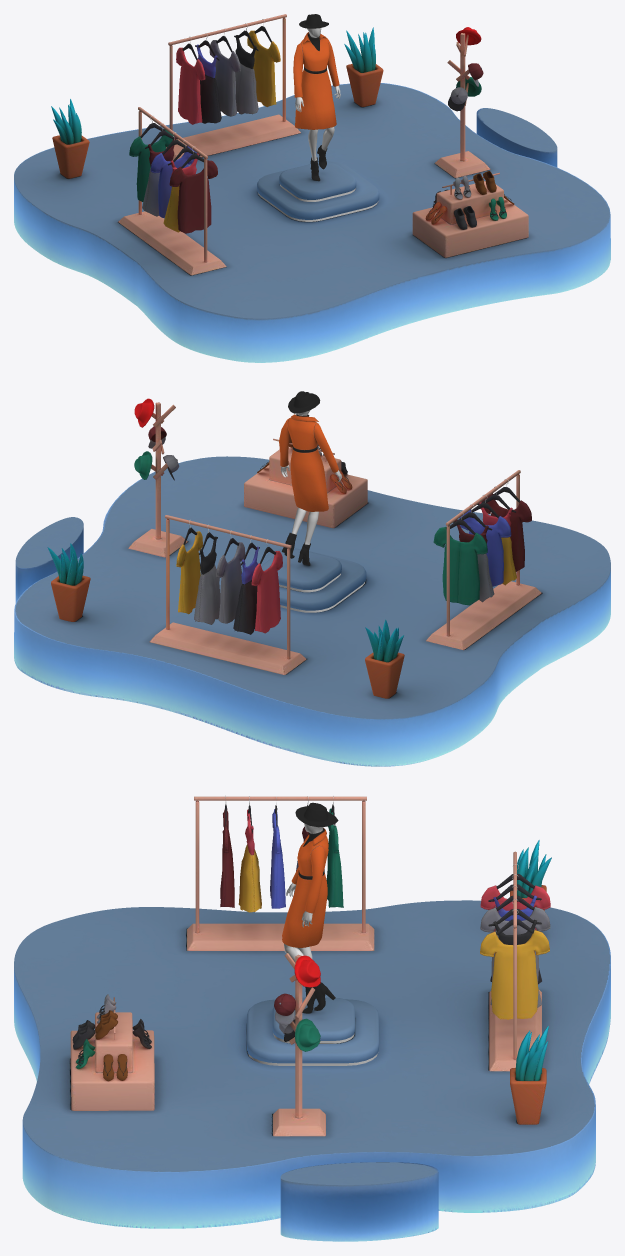
Rendered from LeviCam6.glb.
3 views of the same model, one above another, from view 1: azimuth 30°, elevation 25°; view 2: azimuth 150°, elevation 25°; view 3: azimuth 270°, elevation 25° (orthographic). The views are drawn at different scales.
Parts seen in each view (by area): view 1: LeviCamBase, LeviCamSet, LeviCamManneDrs, LeviCamManneBdy, LeviCamBsGlw; view 2: LeviCamBase, LeviCamSet, LeviCamManneDrs, LeviCamManneBdy; view 3: LeviCamBase, LeviCamSet, LeviCamManneDrs, LeviCamManneBdy.
Part boxes in pixels (x1,y1,x2,y2): LeviCamBase: (14,83,610,362); LeviCamSet: (51,14,528,275); LeviCamManneDrs: (293,14,339,181); LeviCamManneBdy: (295,28,340,161); LeviCamBsGlw: (258,184,378,221); LeviCamBase: (14,456,610,766); LeviCamSet: (47,398,541,698); LeviCamManneDrs: (279,391,338,565); LeviCamManneBdy: (280,410,341,544); LeviCamBase: (14,900,610,1241); LeviCamSet: (70,795,551,1136); LeviCamManneDrs: (282,802,338,1013); LeviCamManneBdy: (284,823,323,962).
Bounding box in the file's own units: 7.58 × 3.58 × 6.72.
Materials: 7 (4 with a texture image).
